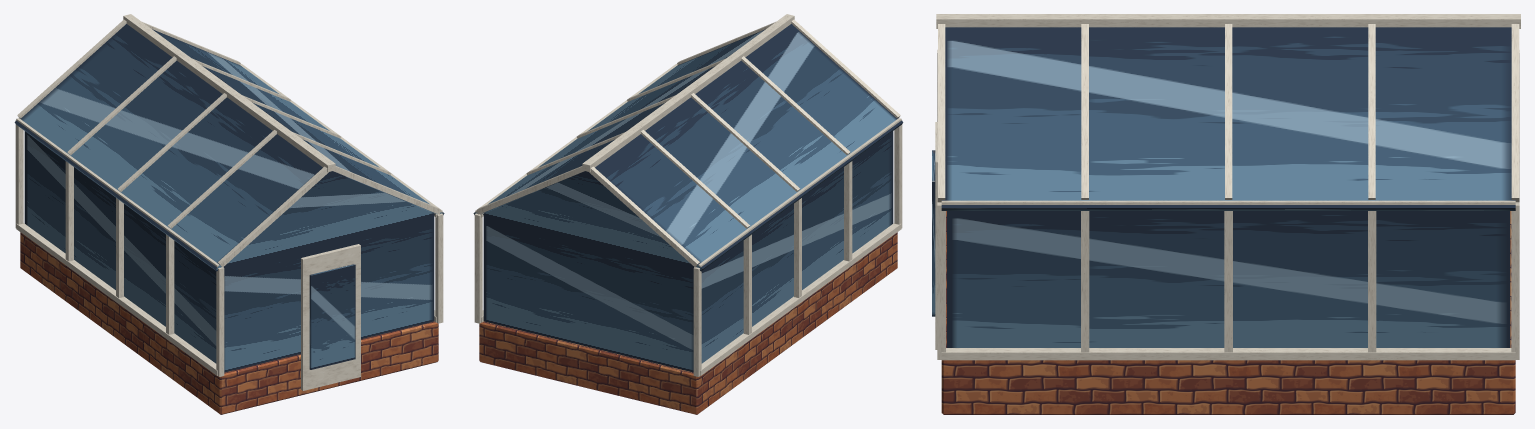
The model's file is greenhouse.glb.
3 views of the same model, side by side, from view 1: azimuth 30°, elevation 25°; view 2: azimuth 150°, elevation 25°; view 3: azimuth 270°, elevation 25° (orthographic). The views are drawn at different scales.
Visible parts, largest first — view 1: Greenhouse; view 2: Greenhouse; view 3: Greenhouse.
Boxes of the visible parts, left/top/right/bottom form: Greenhouse: left=14, top=14, right=444, bottom=414; Greenhouse: left=473, top=14, right=903, bottom=414; Greenhouse: left=932, top=14, right=1520, bottom=414.
Size of the model in its own units: 3.56 by 3.35 by 5.54.
3 materials, 3 textured.
